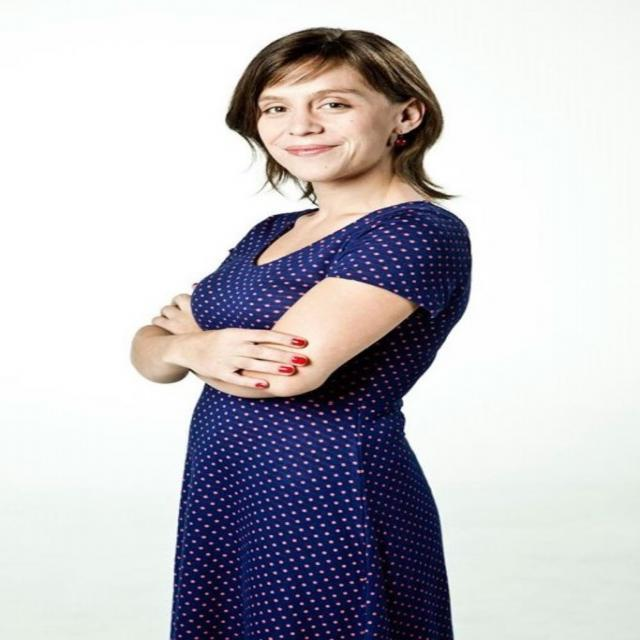closed-mouth: (281, 140, 343, 158)
